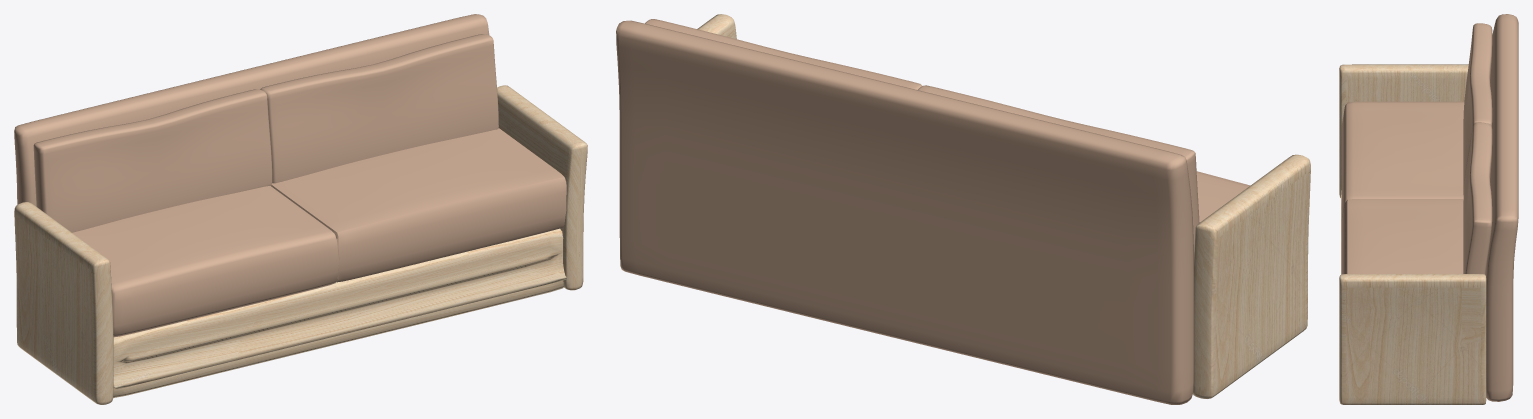
Rendered from sofa.fbx.
3 views of the same model, side by side, from view 1: azimuth 30°, elevation 25°; view 2: azimuth 150°, elevation 25°; view 3: azimuth 270°, elevation 25° (orthographic). The views are drawn at different scales.
Visible parts, largest first — view 1: Cube.004, Cube.010, Cube.003, Cube.009, Cube.008, Cube.007, Cube.005, Cube.006; view 2: Cube.005, Cube.007, Cube.009, Cube.008, Cube.003, Cube.006; view 3: Cube.006, Cube.003, Cube.005, Cube.010, Cube.007, Cube.008, Cube.009.
Boxes of the visible parts, left/top/right/bottom form: Cube.004: left=113, top=228, right=566, bottom=397; Cube.010: left=271, top=128, right=566, bottom=282; Cube.003: left=72, top=186, right=339, bottom=337; Cube.009: left=33, top=89, right=272, bottom=232; Cube.008: left=260, top=34, right=498, bottom=183; Cube.007: left=14, top=202, right=113, bottom=404; Cube.005: left=14, top=14, right=489, bottom=206; Cube.006: left=497, top=85, right=587, bottom=290; Cube.005: left=616, top=20, right=1194, bottom=404; Cube.007: left=1193, top=154, right=1310, bottom=398; Cube.009: left=918, top=85, right=1199, bottom=248; Cube.008: left=645, top=19, right=922, bottom=89; Cube.003: left=1196, top=171, right=1250, bottom=222; Cube.006: left=697, top=14, right=736, bottom=39; Cube.006: left=1339, top=274, right=1486, bottom=404; Cube.003: left=1341, top=101, right=1464, bottom=219; Cube.005: left=1485, top=14, right=1518, bottom=401; Cube.010: left=1341, top=199, right=1463, bottom=273; Cube.007: left=1339, top=64, right=1468, bottom=197; Cube.008: left=1463, top=122, right=1492, bottom=274; Cube.009: left=1463, top=23, right=1492, bottom=194.
Bounding box in the file's own units: 702 × 282 × 246.
